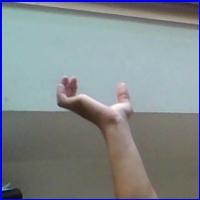B: (55, 73, 141, 128)
